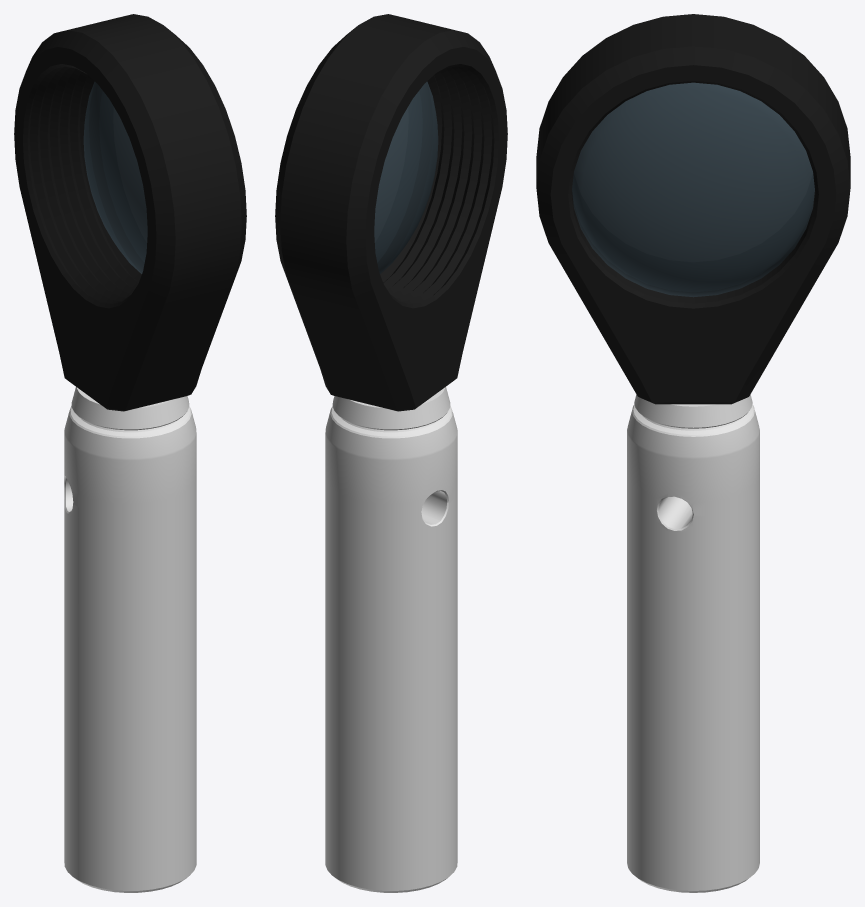
The model's file is Lens.fbx.
The picture shows the model from 3 angles, left to right: view 1: azimuth 30°, elevation 25°; view 2: azimuth 150°, elevation 25°; view 3: azimuth 270°, elevation 25°; orthographic projection.
Parts seen in each view (by area): view 1: Stand, Kopf, Linse; view 2: Stand, Kopf, Linse; view 3: Stand, Kopf, Linse.
Part boxes in pixels (<box>): Stand: <box>64,387,196,892</box>; Kopf: <box>14,14,246,411</box>; Linse: <box>83,81,147,273</box>; Stand: <box>325,387,457,892</box>; Kopf: <box>275,14,507,411</box>; Linse: <box>374,81,438,273</box>; Stand: <box>627,394,759,892</box>; Kopf: <box>536,14,850,404</box>; Linse: <box>572,82,814,297</box>.
Bounding box in the file's own units: 1.37 × 8.81 × 3.
